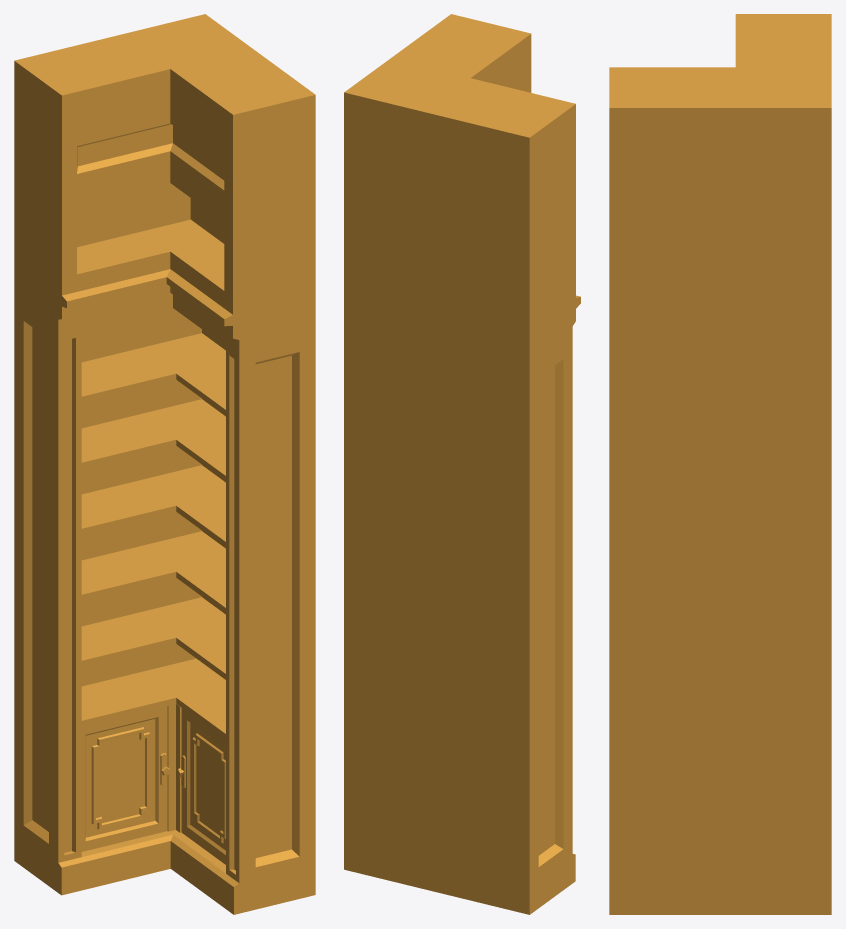
File: SM_Bookcase_Tall_Modular_Cabinet_Corner_Inner.fbx
The picture shows the model from 3 angles, left to right: view 1: azimuth 30°, elevation 25°; view 2: azimuth 150°, elevation 25°; view 3: azimuth 270°, elevation 25°; orthographic projection. The views are drawn at different scales.
Visible parts, largest first — view 1: library-tall-modular-cabinet-corner-inner-base, library-tall-modular-cabinet-corner-inner-door-l, library-tall-modular-cabinet-corner-inner-door-r; view 2: library-tall-modular-cabinet-corner-inner-base; view 3: library-tall-modular-cabinet-corner-inner-base.
Part boxes in pixels (x1,y1,x2,y2): library-tall-modular-cabinet-corner-inner-base: [14, 14, 315, 914]; library-tall-modular-cabinet-corner-inner-door-l: [81, 706, 169, 851]; library-tall-modular-cabinet-corner-inner-door-r: [176, 708, 225, 864]; library-tall-modular-cabinet-corner-inner-base: [344, 14, 580, 914]; library-tall-modular-cabinet-corner-inner-base: [609, 14, 831, 914].
Bounding box in the file's own units: 1 × 4 × 1.
